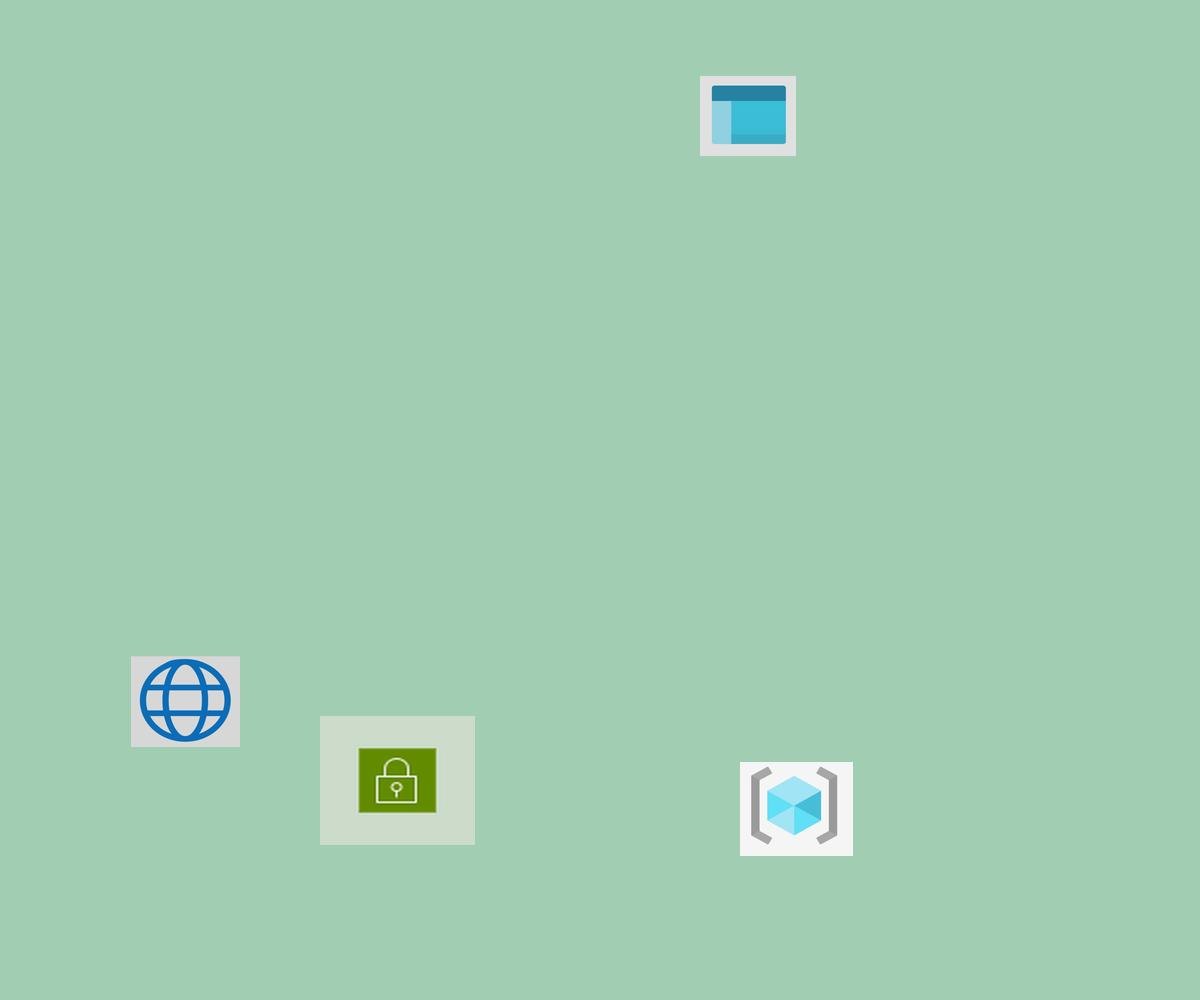AWS-Public-subnet: (320, 716, 475, 845)
Azure_http: (131, 656, 240, 747)
Azure_management-portal: (700, 76, 796, 156)
Azure_resource_group: (740, 762, 853, 856)
